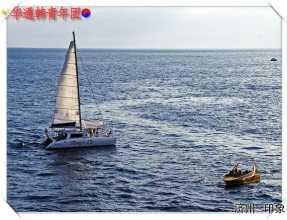fanchuan: (36, 31, 114, 151)
otherboat: (210, 159, 262, 184)
